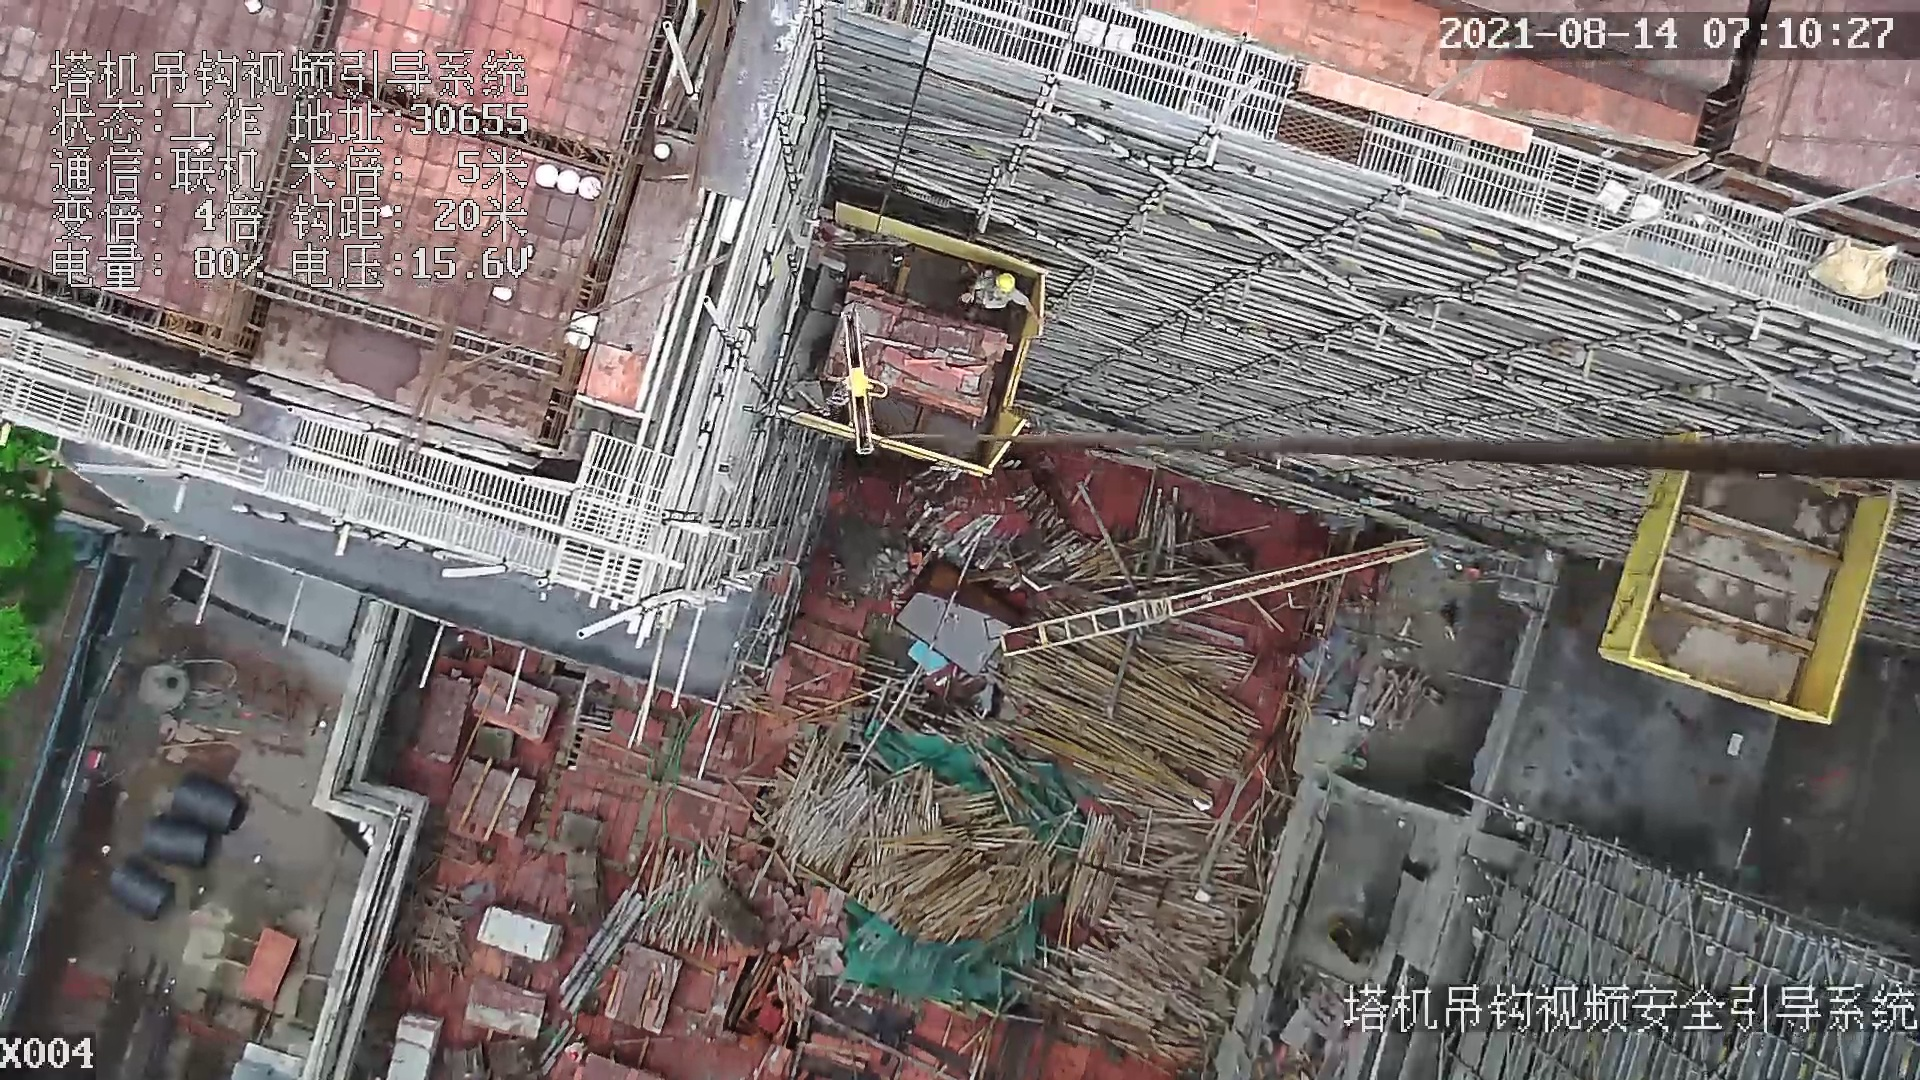helmet: (993, 272, 1018, 295)
hook: (833, 306, 888, 460)
person: (963, 263, 1035, 336), (564, 1030, 590, 1068)
